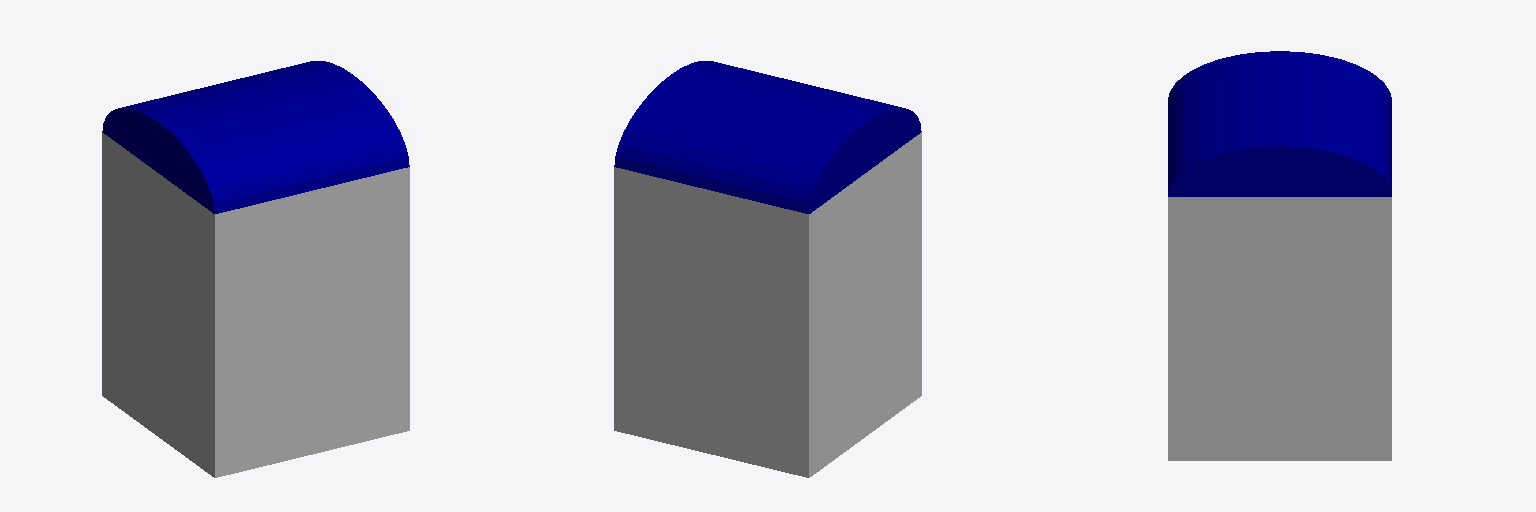
Rendered from body_l_distal_pinvround_collision.obj.
The picture shows the model from 3 angles: view 1: azimuth 30°, elevation 25°; view 2: azimuth 150°, elevation 25°; view 3: azimuth 270°, elevation 25°; orthographic projection.
Visible parts, largest first — view 1: body_l_distal_pinvround_collision_Cube.019; view 2: body_l_distal_pinvround_collision_Cube.019; view 3: body_l_distal_pinvround_collision_Cube.019.
Boxes of the visible parts, x1=… form: body_l_distal_pinvround_collision_Cube.019: x1=102, y1=61, x2=409, y2=477; body_l_distal_pinvround_collision_Cube.019: x1=614, y1=61, x2=921, y2=477; body_l_distal_pinvround_collision_Cube.019: x1=1168, y1=51, x2=1391, y2=460.
Size of the model in its own units: 0.02 by 0.0309 by 0.02.